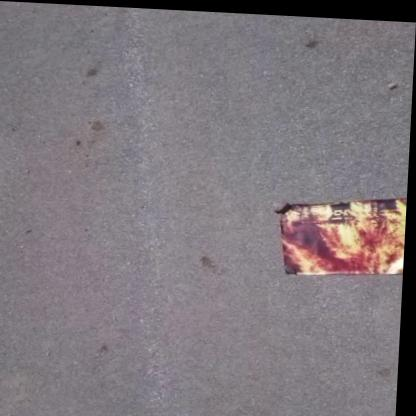fire-poster: (271, 184, 408, 277)
